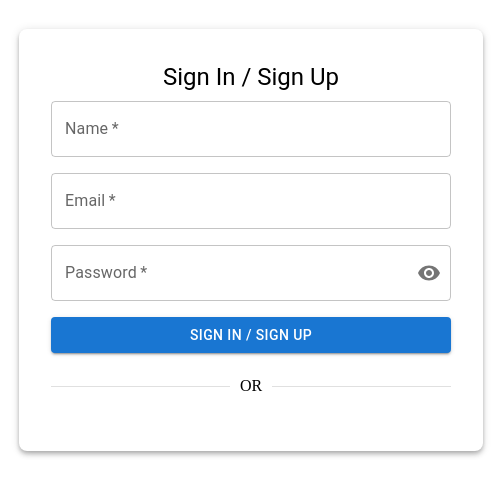
it: AuthPage › Form Validation › Email Validation › clears error for valid email format
This screenshot has width=503, height=486.
Type "invalid-email" into the field labelled "Email *" at {"x": 251, "y": 201}, box [51,173,451,229]
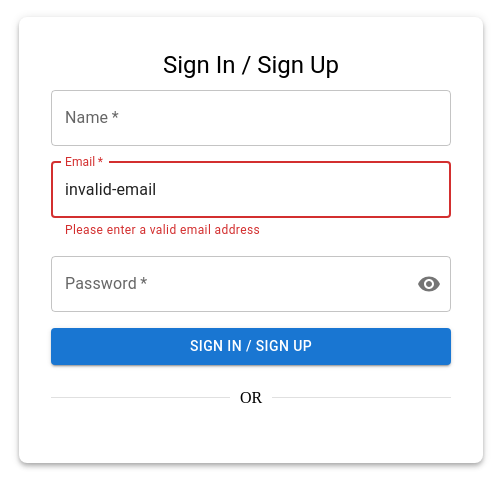
Press Tab
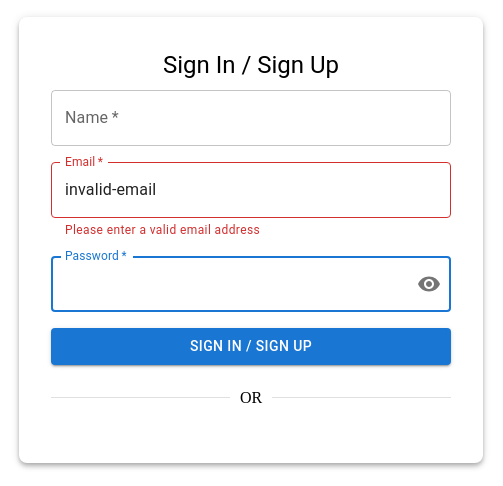
Expected: the text "Please enter a valid email address" is shown, [65,222,260,236]
Replace the text in the field labelled "Email *" with "valid@example.com" at {"x": 251, "y": 190}, box [51,162,451,218]
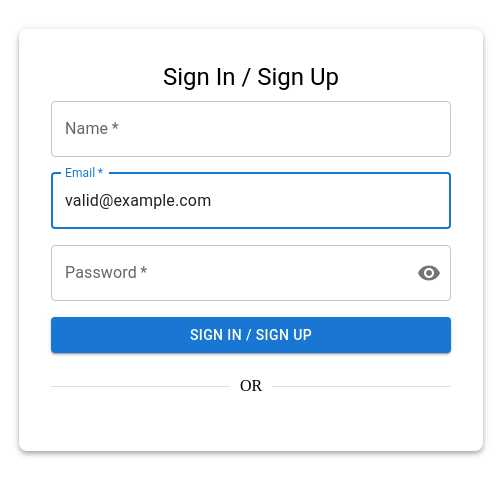
Expected: the text "Please enter a valid email address" is gone
